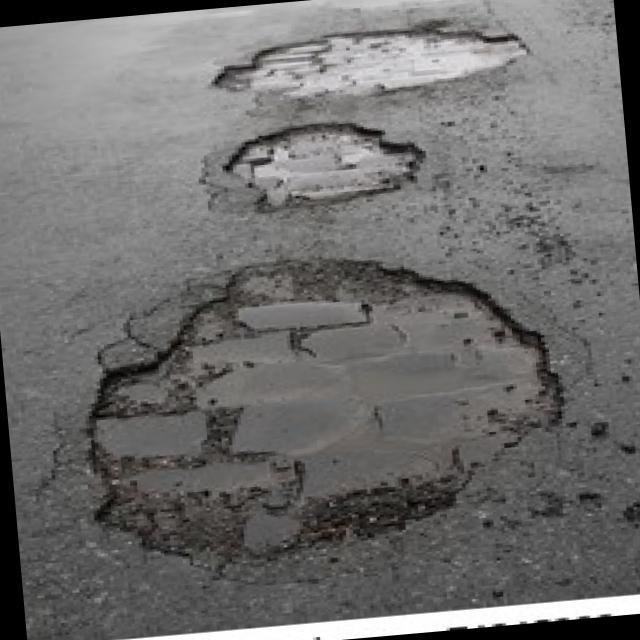Pothole: (69, 237, 575, 578), (204, 15, 536, 110), (222, 114, 430, 219)
